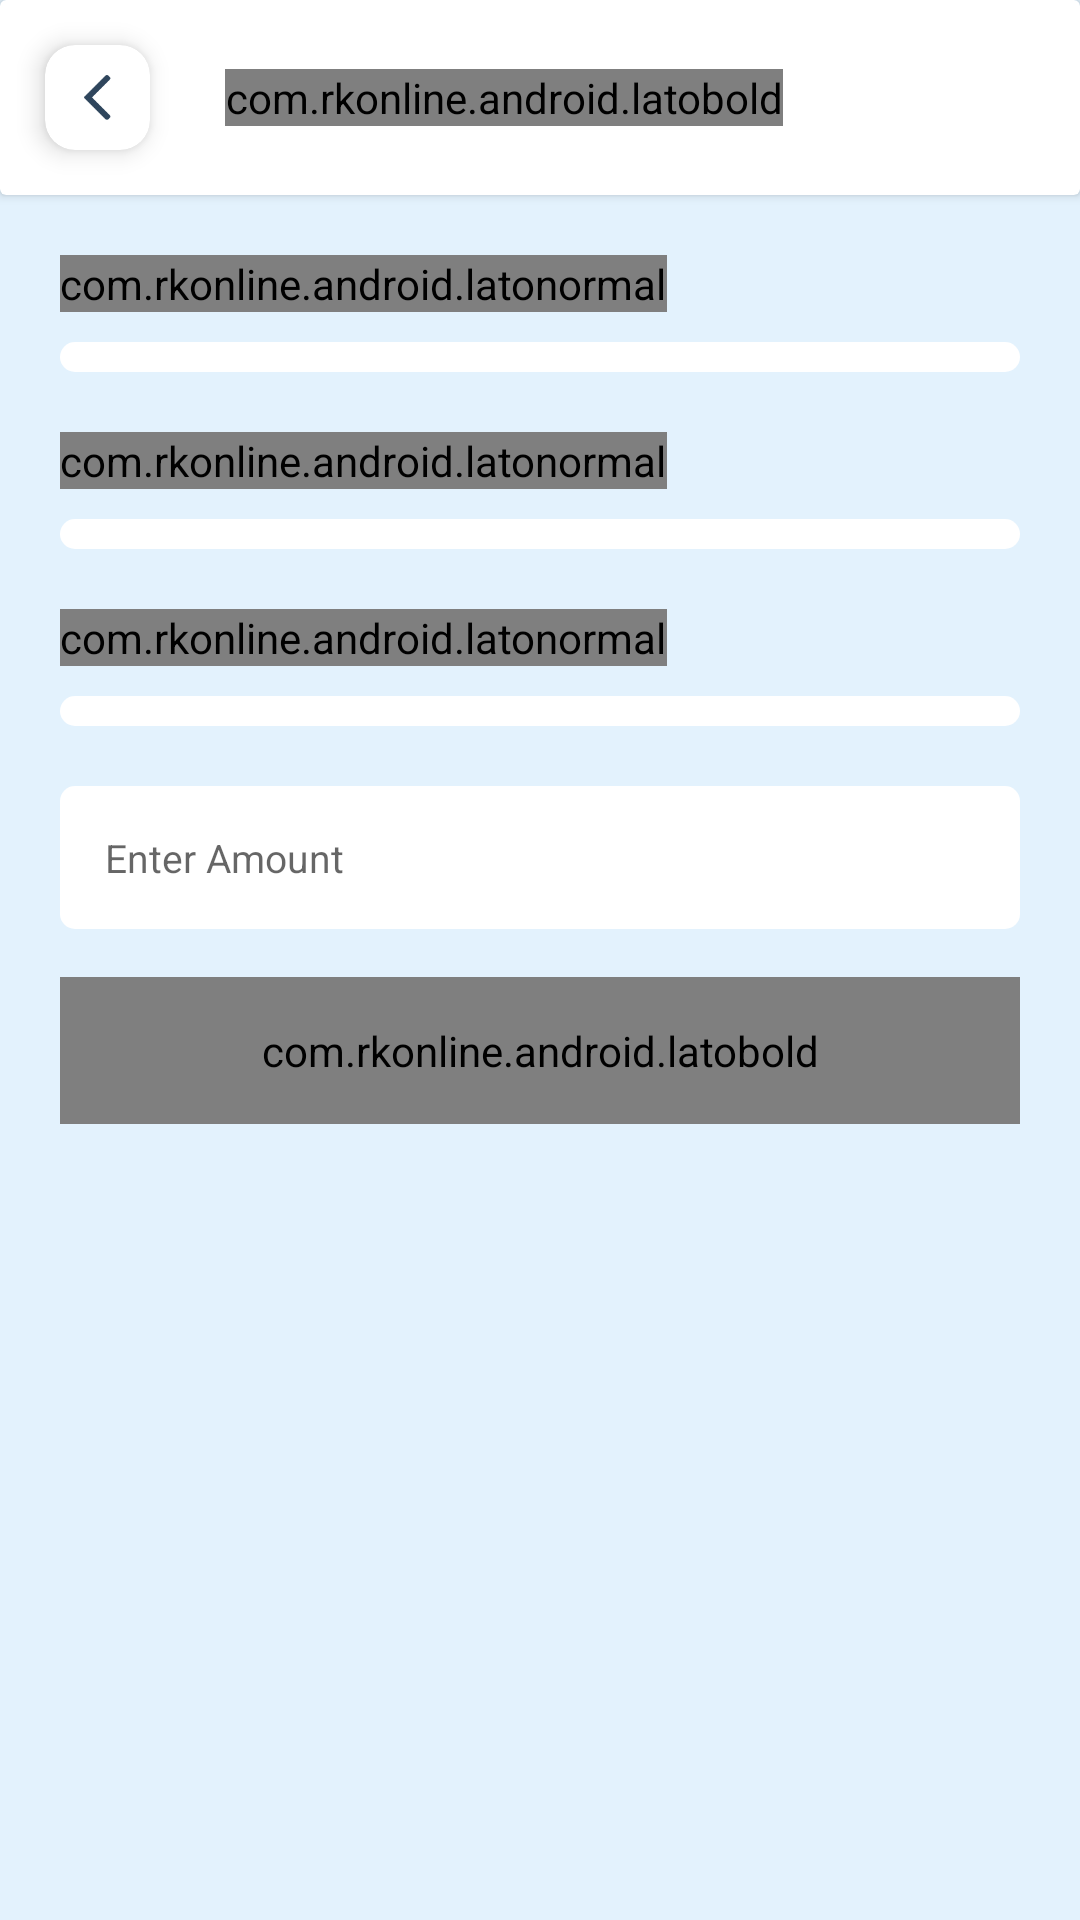

Screen size 1080 x 1920. Icon name, then its center in pixels as (x,y):
back: (97,97)
